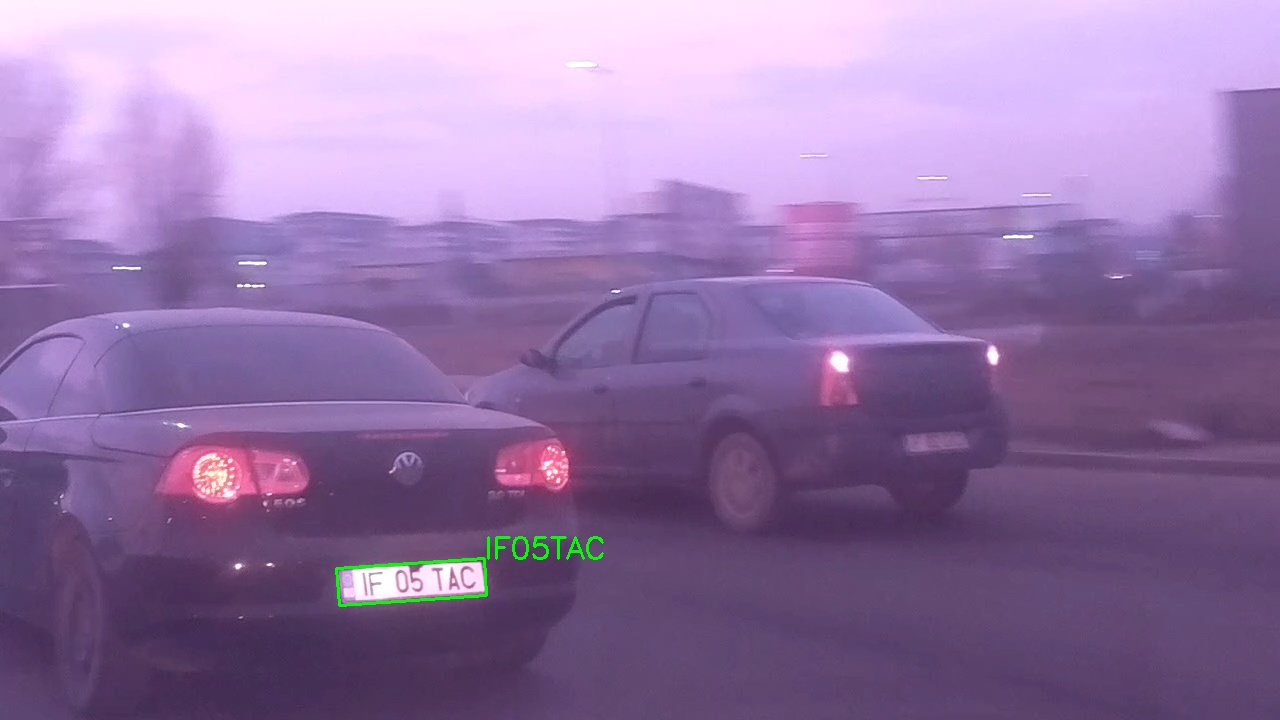license-plate: (336, 557, 488, 607)
